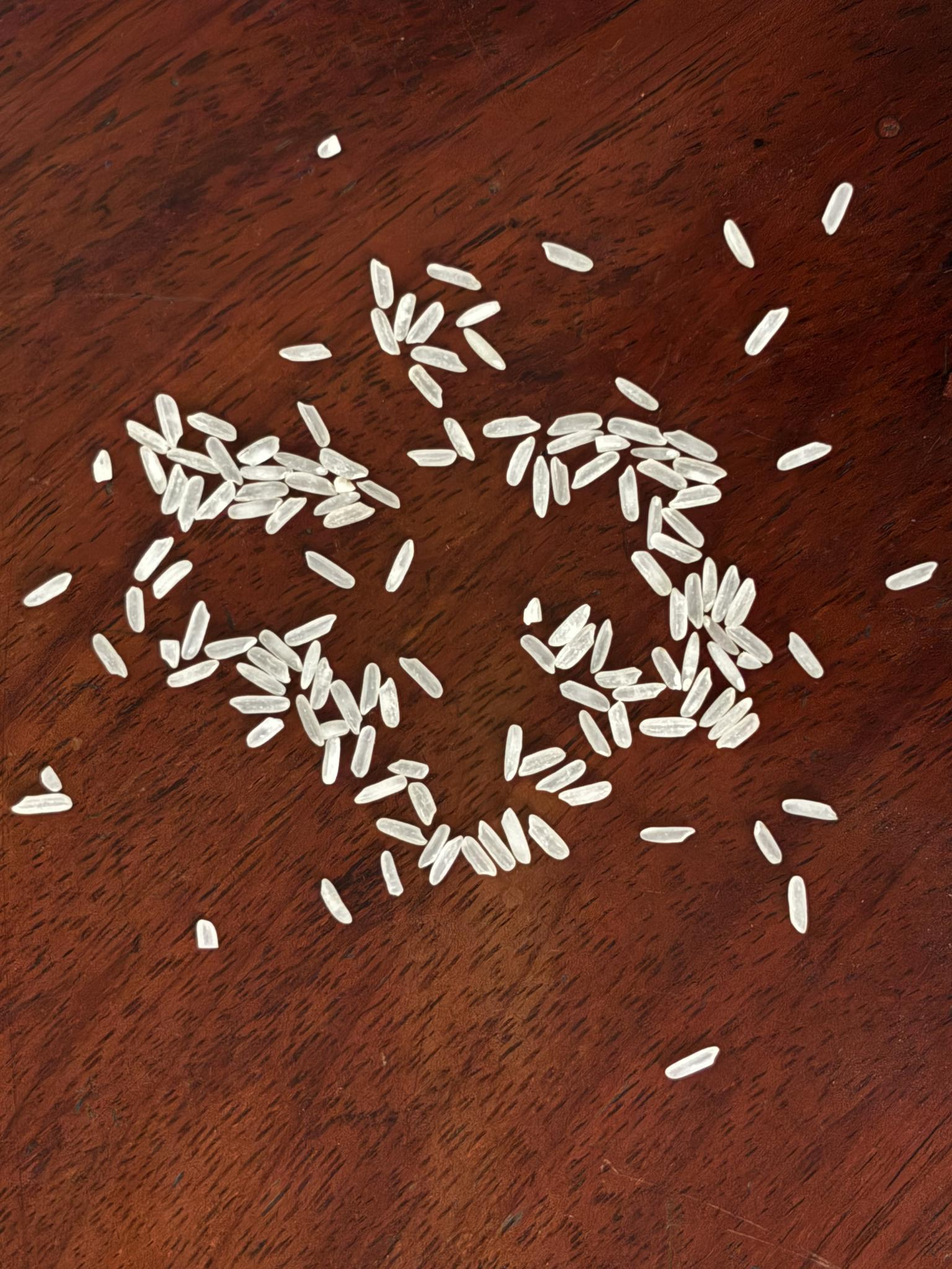Rice-th-y-nh: (744, 305, 790, 356), (706, 696, 756, 741), (476, 819, 516, 871), (528, 814, 571, 861), (630, 550, 673, 597), (258, 628, 305, 671), (398, 656, 445, 699), (571, 450, 621, 490), (547, 603, 591, 648), (304, 551, 356, 589), (707, 641, 747, 690), (463, 326, 506, 371), (132, 536, 174, 582), (726, 624, 774, 664), (661, 506, 705, 549), (404, 301, 446, 346), (410, 342, 467, 375), (535, 758, 588, 793), (556, 623, 596, 669), (724, 578, 758, 630), (608, 415, 665, 446), (710, 565, 741, 622), (428, 836, 464, 885), (205, 436, 241, 485), (264, 495, 308, 535), (23, 573, 73, 608), (330, 679, 363, 732), (181, 602, 211, 660), (787, 632, 824, 679), (246, 646, 293, 683), (175, 475, 206, 531), (236, 662, 287, 696), (666, 428, 717, 462), (500, 808, 531, 863), (715, 713, 761, 750), (637, 457, 687, 491), (318, 447, 368, 481), (821, 183, 854, 234), (152, 559, 194, 599), (673, 455, 727, 486), (407, 364, 445, 408), (90, 634, 128, 678), (368, 308, 402, 357), (286, 614, 338, 646), (542, 241, 594, 273), (776, 441, 831, 471), (196, 481, 237, 521), (665, 1048, 719, 1078), (885, 561, 939, 591), (680, 668, 713, 717), (385, 540, 416, 592), (441, 416, 476, 462), (560, 680, 610, 712), (651, 533, 701, 565), (546, 427, 601, 456), (154, 394, 183, 449), (699, 687, 736, 730), (722, 220, 755, 268), (505, 436, 536, 487), (296, 402, 331, 447), (426, 263, 482, 291), (614, 377, 659, 411), (227, 495, 283, 522), (168, 446, 220, 475), (188, 411, 238, 441), (518, 746, 566, 777), (616, 466, 642, 523), (159, 464, 188, 515), (461, 836, 497, 877), (578, 711, 610, 757), (126, 420, 169, 454), (355, 775, 407, 803), (323, 501, 375, 529), (546, 411, 602, 437), (295, 695, 324, 745), (377, 817, 427, 846), (312, 489, 362, 518), (677, 633, 702, 691), (520, 634, 556, 674), (167, 660, 220, 687), (320, 878, 351, 924), (650, 647, 682, 691), (418, 824, 450, 868), (702, 617, 738, 656), (205, 634, 257, 661), (669, 484, 723, 510), (483, 415, 540, 439), (357, 479, 401, 510), (752, 820, 783, 864), (351, 725, 377, 777), (286, 470, 336, 497), (238, 435, 280, 467), (455, 300, 501, 329), (12, 793, 72, 815), (139, 447, 167, 494), (787, 876, 810, 933), (781, 798, 838, 821), (682, 573, 706, 627), (407, 782, 437, 825), (530, 456, 551, 517), (589, 622, 614, 673), (377, 677, 402, 728), (298, 640, 324, 689), (391, 293, 417, 342), (275, 450, 324, 476), (230, 694, 290, 715), (640, 716, 697, 738), (548, 457, 573, 506), (369, 259, 394, 308), (594, 665, 641, 691), (643, 496, 666, 549), (502, 725, 524, 780), (561, 782, 611, 806), (607, 701, 632, 749), (236, 480, 288, 503), (666, 588, 689, 640), (246, 717, 284, 748), (612, 682, 666, 703), (309, 662, 333, 709), (359, 663, 381, 714), (699, 557, 721, 608), (380, 851, 403, 896), (640, 826, 695, 844), (125, 586, 146, 632), (240, 463, 287, 483), (279, 344, 331, 362), (407, 449, 457, 467), (387, 758, 429, 779), (322, 737, 341, 783), (595, 433, 630, 453), (632, 446, 678, 461), (92, 450, 113, 482), (159, 639, 181, 669), (198, 920, 218, 949), (40, 766, 62, 792), (319, 719, 349, 738), (522, 598, 542, 625), (737, 652, 763, 671), (332, 475, 356, 494)
